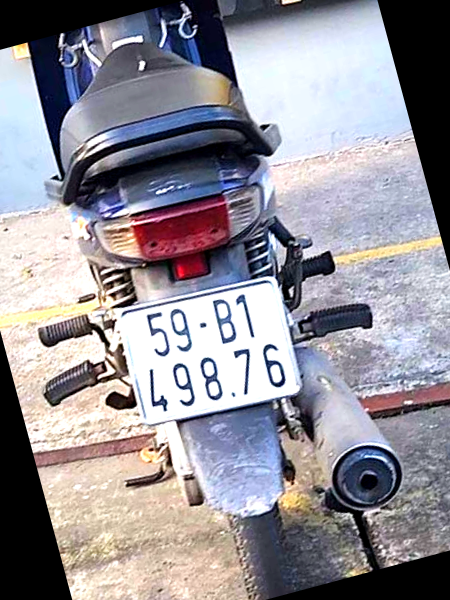number: (117, 278, 303, 428)
